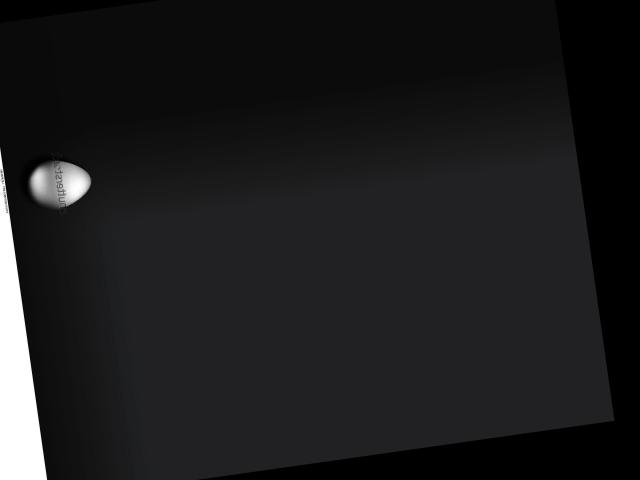egg: (24, 154, 95, 212)
